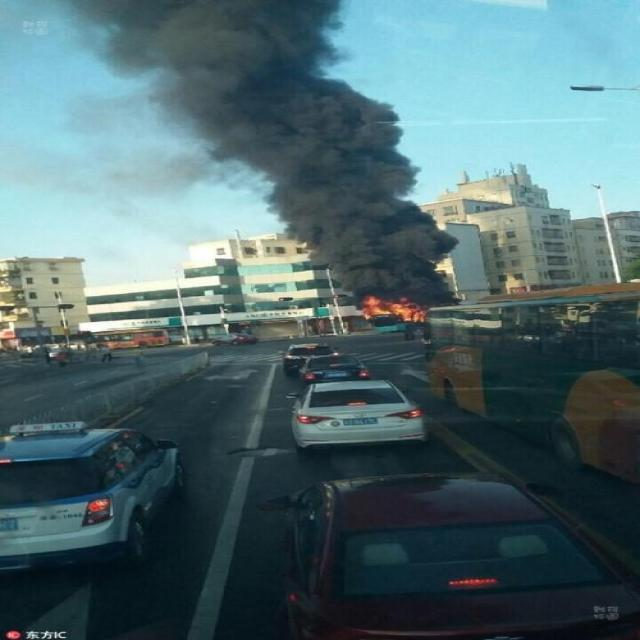Smoke: (0, 0, 463, 312)
